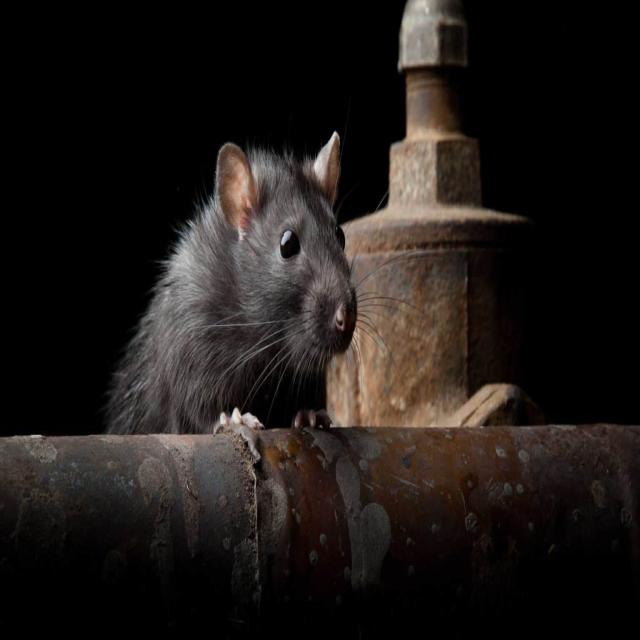rat: (79, 120, 380, 446)
